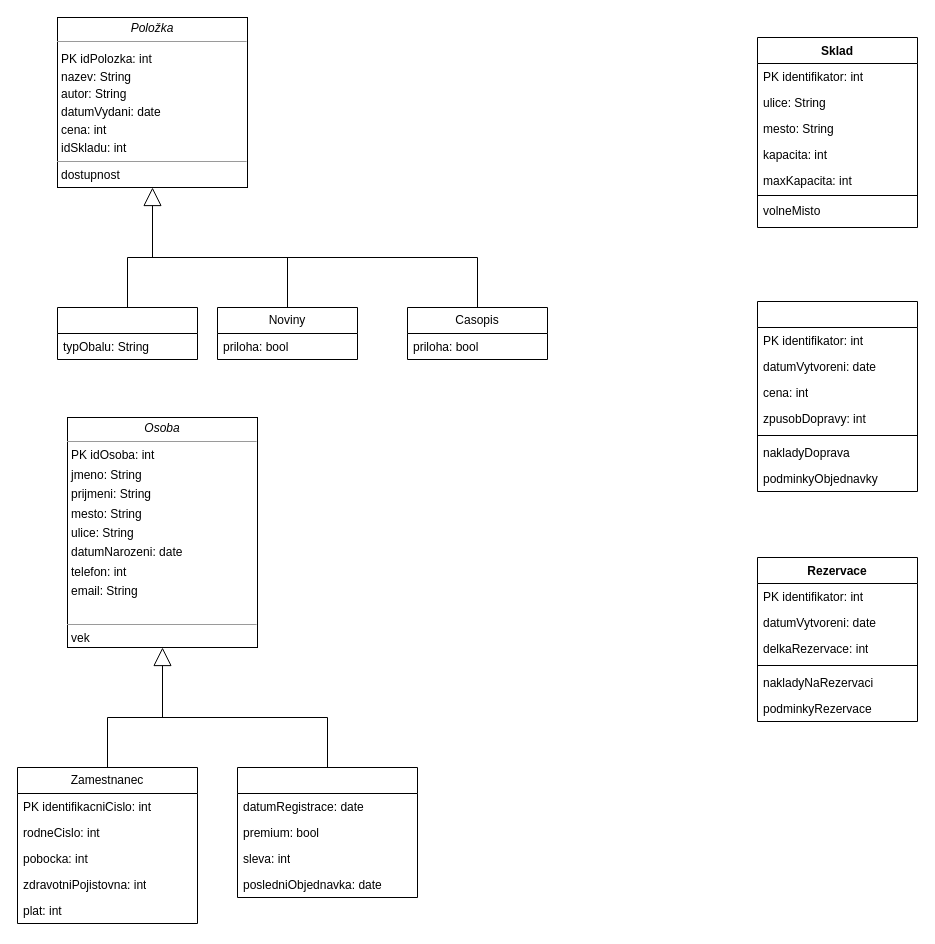
Image size: 935x944. Some labels were removed from this diagram. Here are the shapes that lost their labels. From the top down, the box of each, then its label:
(56, 306, 198, 360): Kniha
(756, 300, 918, 492): Objednavka
(236, 766, 418, 898): Zakaznik
